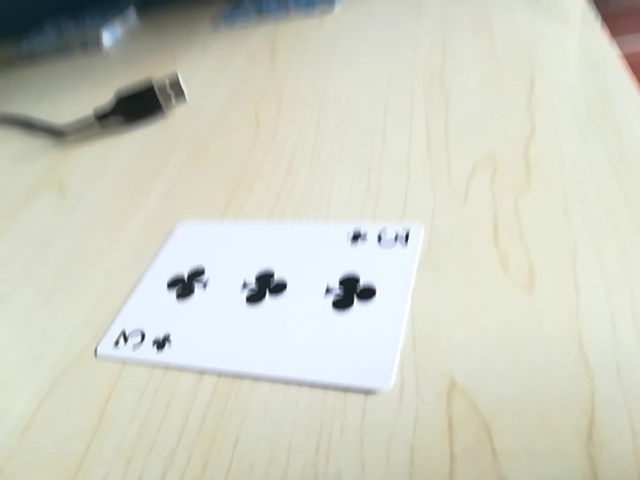mh 3: (109, 327, 178, 361)
